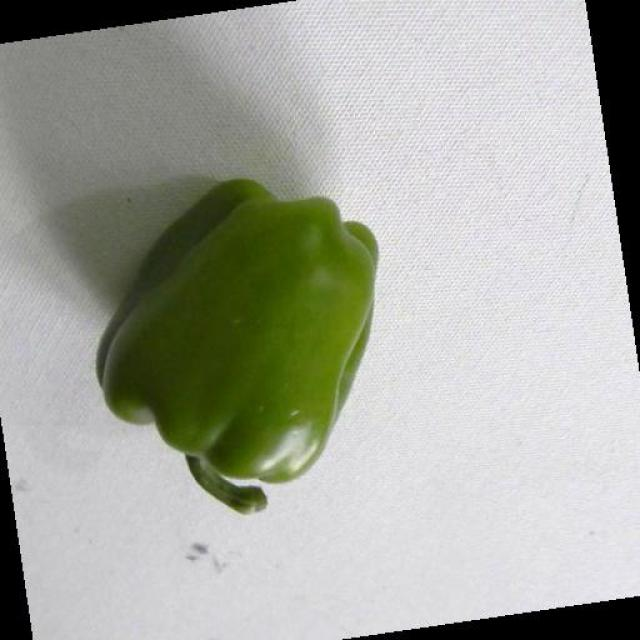Fresh_Capsicum: (134, 182, 356, 499)
